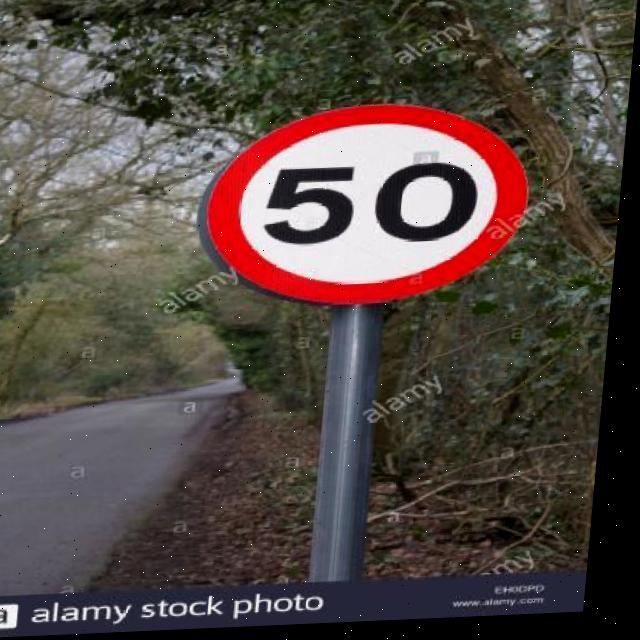Speed limit 50: (192, 99, 544, 318)
